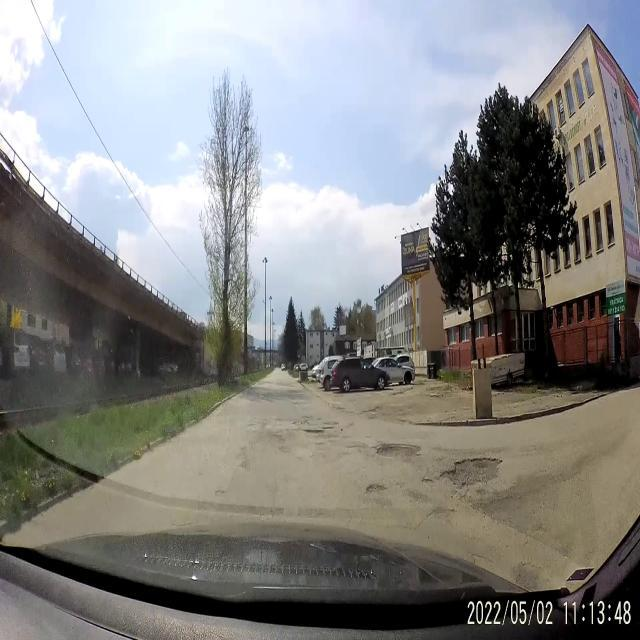Pothole: (440, 450, 502, 496), (374, 436, 424, 468), (304, 420, 338, 442), (361, 401, 386, 422), (364, 476, 386, 498), (287, 418, 302, 434), (421, 471, 434, 488)
